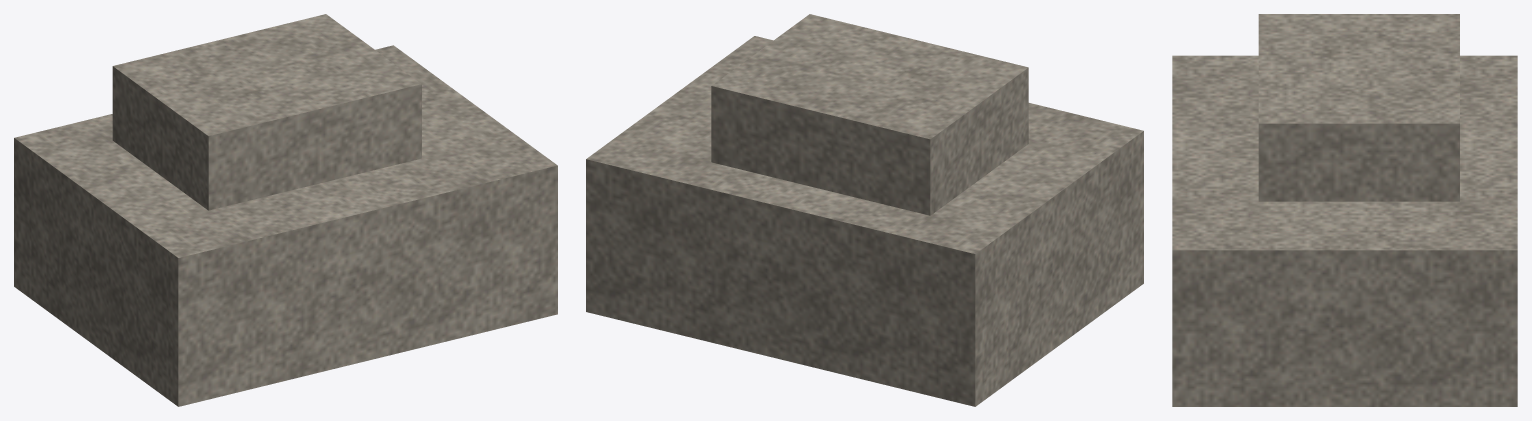
The model's file is rock.obj.
The picture shows the model from 3 angles, left to right: view 1: azimuth 30°, elevation 25°; view 2: azimuth 150°, elevation 25°; view 3: azimuth 270°, elevation 25°; orthographic projection. The views are drawn at different scales.
Parts seen in each view (by area): view 1: stone; view 2: stone; view 3: stone.
Boxes of the visible parts, x1=… form: stone: x1=14, y1=14, x2=557, y2=406; stone: x1=586, y1=14, x2=1143, y2=406; stone: x1=1172, y1=14, x2=1517, y2=406.
Size of the model in its own units: 1.6 by 0.9 by 1.2.
1 material, 1 textured.
